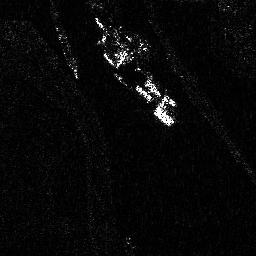ship: (56, 26, 79, 80)
